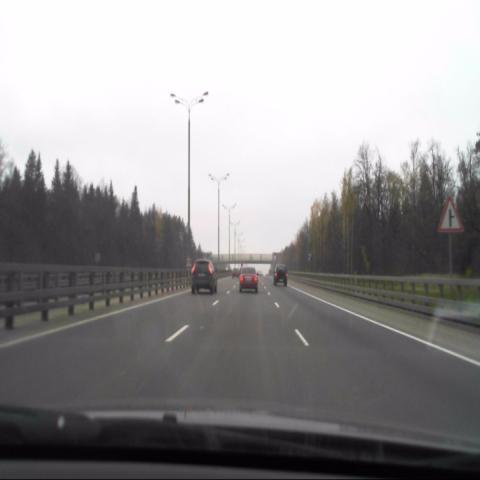2_3_2: (440, 198, 462, 232)
